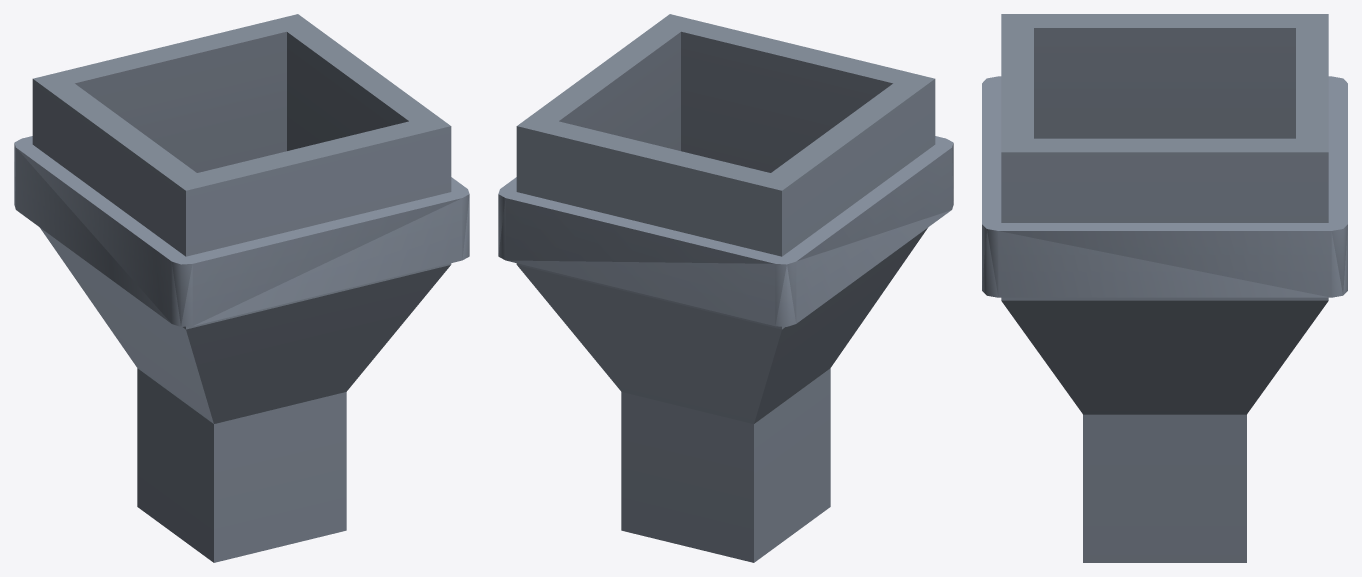
The model's file is factory_hopper_high_square.fbx.
The picture shows the model from 3 angles, left to right: view 1: azimuth 30°, elevation 25°; view 2: azimuth 150°, elevation 25°; view 3: azimuth 270°, elevation 25°; orthographic projection. The views are drawn at different scales.
Parts seen in each view (by area): view 1: factory_hopper_high_square; view 2: factory_hopper_high_square; view 3: factory_hopper_high_square.
Part boxes in pixels (bbox=[...]): factory_hopper_high_square: bbox=[14, 14, 469, 562]; factory_hopper_high_square: bbox=[498, 14, 953, 562]; factory_hopper_high_square: bbox=[982, 14, 1347, 562].
Bounding box in the file's own units: 2.68 × 3.6 × 2.68.
1 material, 1 textured.
